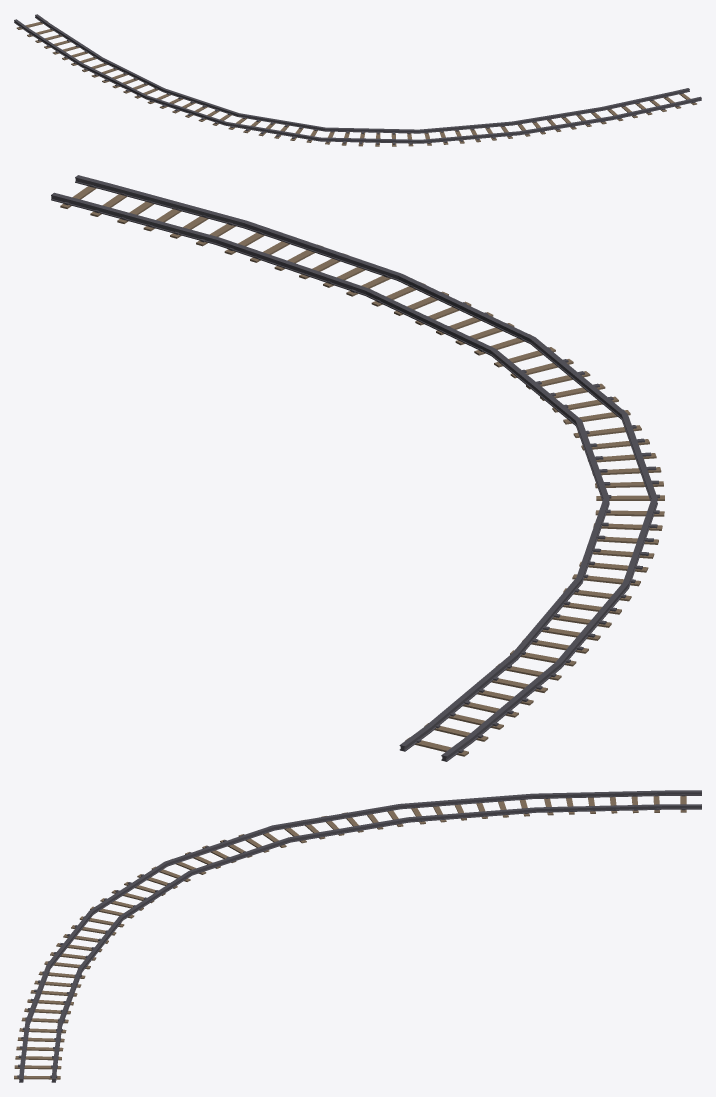
The model's file is RailwayTrack_Curve.glb.
3 renders of one model, top to bottom at view 1: azimuth 30°, elevation 25°; view 2: azimuth 150°, elevation 25°; view 3: azimuth 270°, elevation 25°, orthographic. The views are drawn at different scales.
Visible parts, largest first — view 1: RailwayTrack_Curve; view 2: RailwayTrack_Curve; view 3: RailwayTrack_Curve.
Part boxes in pixels (x1,y1,x2,y2): RailwayTrack_Curve: (14,14,701,146); RailwayTrack_Curve: (51,175,664,761); RailwayTrack_Curve: (14,790,701,1082).
Bounding box in the file's own units: 18.63 × 0.1429 × 18.64.
